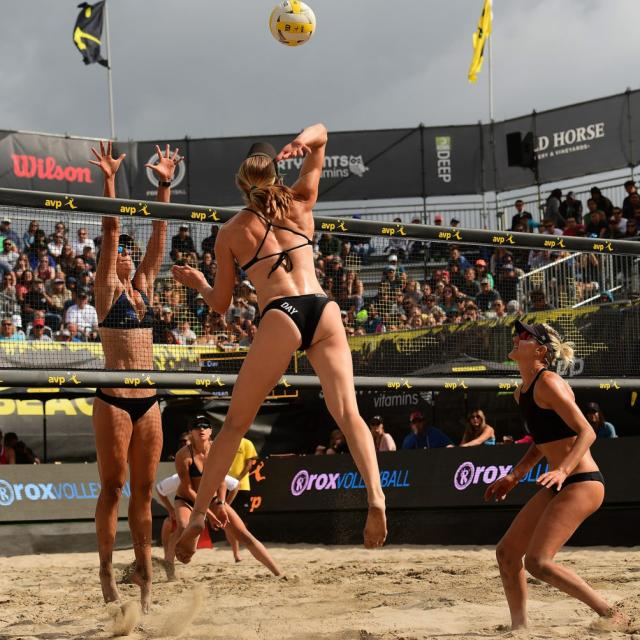body: (166, 120, 389, 570), (481, 318, 631, 636), (86, 137, 184, 615), (163, 412, 290, 584), (313, 266, 466, 336), (154, 471, 248, 567), (222, 436, 259, 548), (217, 271, 260, 346), (25, 276, 62, 336), (0, 422, 48, 465), (401, 410, 451, 450), (574, 244, 603, 312), (66, 292, 100, 340), (457, 407, 496, 446), (344, 210, 372, 262), (154, 282, 203, 310), (54, 328, 78, 383), (584, 401, 619, 438), (15, 268, 38, 324), (528, 290, 558, 330), (469, 298, 525, 319), (169, 248, 214, 274), (496, 264, 520, 312), (474, 279, 502, 320), (497, 256, 526, 294), (170, 226, 195, 268), (369, 414, 397, 450), (50, 277, 74, 317), (589, 186, 614, 223), (405, 219, 426, 263), (603, 286, 636, 314), (458, 266, 482, 303), (325, 257, 347, 297), (558, 191, 583, 226), (170, 314, 197, 346), (510, 198, 534, 234), (582, 197, 606, 232), (514, 222, 530, 274), (34, 253, 53, 296), (69, 228, 96, 258), (26, 310, 52, 341), (1, 272, 19, 316), (30, 242, 55, 273), (340, 268, 364, 300), (446, 247, 474, 274), (382, 264, 403, 300), (157, 307, 176, 345), (54, 243, 74, 279), (28, 228, 52, 258), (473, 259, 495, 291), (201, 223, 220, 260), (584, 211, 609, 239), (0, 238, 21, 270), (387, 253, 407, 286), (619, 178, 640, 209), (75, 245, 98, 273), (0, 220, 22, 249), (192, 319, 216, 345), (46, 221, 70, 246), (602, 214, 625, 240), (325, 428, 347, 455), (317, 233, 339, 260), (25, 321, 53, 341), (547, 252, 563, 287), (0, 318, 24, 341), (22, 220, 40, 250), (529, 248, 552, 271), (129, 233, 145, 266), (543, 187, 564, 212), (46, 231, 64, 258), (610, 207, 628, 234), (561, 214, 582, 237), (11, 252, 33, 272), (620, 217, 640, 238), (541, 218, 564, 236), (65, 322, 83, 342), (72, 258, 90, 276), (78, 271, 92, 292), (178, 431, 193, 448), (536, 219, 550, 235), (632, 207, 640, 232), (628, 192, 639, 207), (433, 214, 442, 226), (450, 217, 460, 227), (392, 217, 402, 223)
